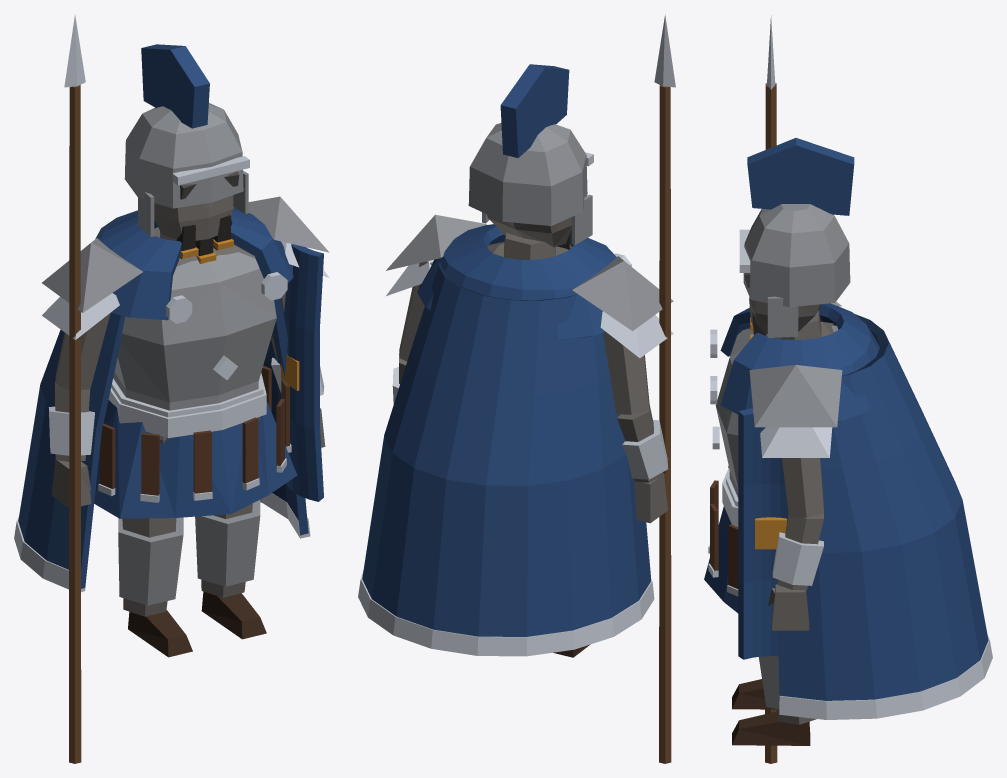
Rendered from hessa.glb.
3 views of the same model, side by side, from view 1: azimuth 30°, elevation 25°; view 2: azimuth 150°, elevation 25°; view 3: azimuth 270°, elevation 25° (orthographic).
Visible parts, largest first — view 1: Cuirass, Skirt, Cloak, Helmet, Shaft, Shield, Mantle, Greave.001, Crest, Greave, Pauldron.002, Belt (+23 smaller); view 2: Cloak, Mantle, Helmet, Shaft, CloakHem, Crest, Pauldron.002, UpperArm.001, Pauldron, Vambrace.001, Pauldron.003, Head (+7 smaller); view 3: Cloak, Helmet, Shield, Mantle, Crest, Pauldron, CloakHem, UpperArm, Pauldron.001, Foot, Vambrace, Cuirass (+12 smaller).
Boxes of the visible parts, left/top/right/bottom form: Cuirass: left=113, top=252, right=276, bottom=410; Skirt: left=94, top=400, right=297, bottom=518; Cloak: left=18, top=210, right=308, bottom=588; Helmet: left=124, top=103, right=243, bottom=208; Shaft: left=69, top=85, right=81, bottom=763; Shield: left=284, top=244, right=323, bottom=501; Mantle: left=99, top=208, right=293, bottom=320; Greave.001: left=118, top=517, right=183, bottom=605; Crest: left=141, top=44, right=209, bottom=128; Greave: left=195, top=500, right=260, bottom=586; Pauldron.002: left=42, top=238, right=142, bottom=312; Belt: left=108, top=373, right=266, bottom=438; Cloak: left=362, top=261, right=651, bottom=636; Mantle: left=417, top=224, right=616, bottom=340; Helmet: left=468, top=123, right=587, bottom=225; Shaft: left=659, top=85, right=671, bottom=763; CloakHem: left=358, top=570, right=654, bottom=656; Crest: left=500, top=64, right=569, bottom=157; Pauldron.002: left=572, top=256, right=673, bottom=331; UpperArm.001: left=603, top=332, right=649, bottom=414; Pauldron: left=386, top=214, right=486, bottom=270; Vambrace.001: left=622, top=420, right=668, bottom=479; Pauldron.003: left=600, top=311, right=673, bottom=357; Head: left=487, top=214, right=571, bottom=246; Cloak: left=777, top=314, right=988, bottom=700; Helmet: left=743, top=204, right=850, bottom=307; Shield: left=738, top=408, right=788, bottom=659; Mantle: left=720, top=303, right=879, bottom=422; Crest: left=747, top=138, right=854, bottom=215; Pauldron: left=749, top=365, right=842, bottom=427; CloakHem: left=779, top=635, right=992, bottom=719; UpperArm: left=782, top=458, right=823, bottom=517; Pauldron.001: left=760, top=427, right=832, bottom=457; Foot: left=732, top=711, right=810, bottom=745; Vambrace: left=772, top=532, right=823, bottom=585; Cuirass: left=715, top=325, right=838, bottom=497.
Size of the model in its own units: 0.8889 by 2.32 by 0.8133.
